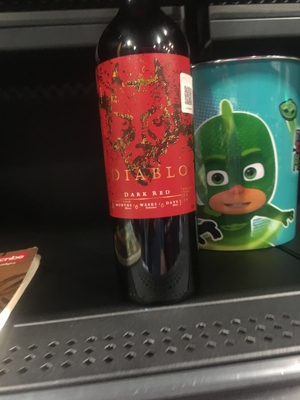diablo dark red: (82, 14, 231, 321)
